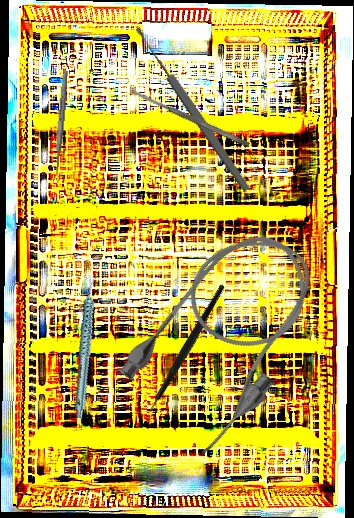Cannula: (107, 208, 347, 464)
Chopper: (108, 283, 264, 429)
Handpiece: (46, 274, 128, 420)
Spatula Surgical: (132, 88, 251, 149)
Surgical Spoon: (133, 24, 252, 194), (52, 70, 69, 184)
